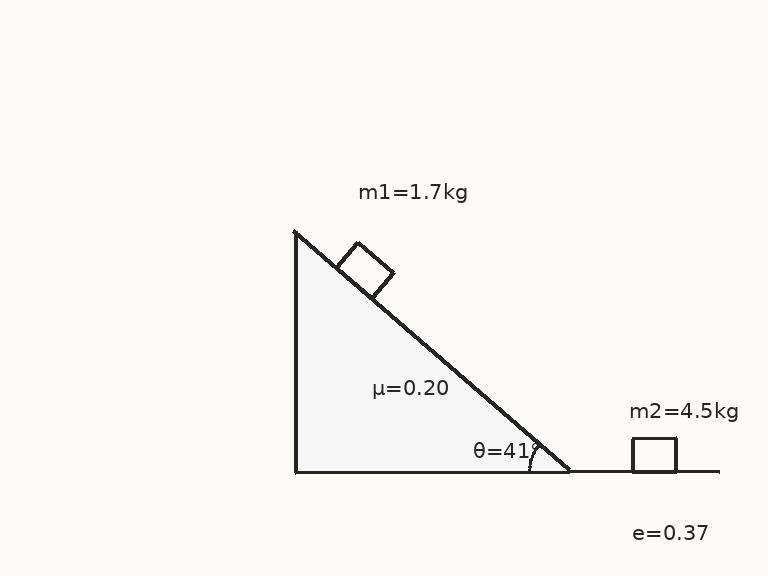block: (334, 240, 395, 301), (630, 437, 678, 473)
ramp: (292, 230, 571, 473)
